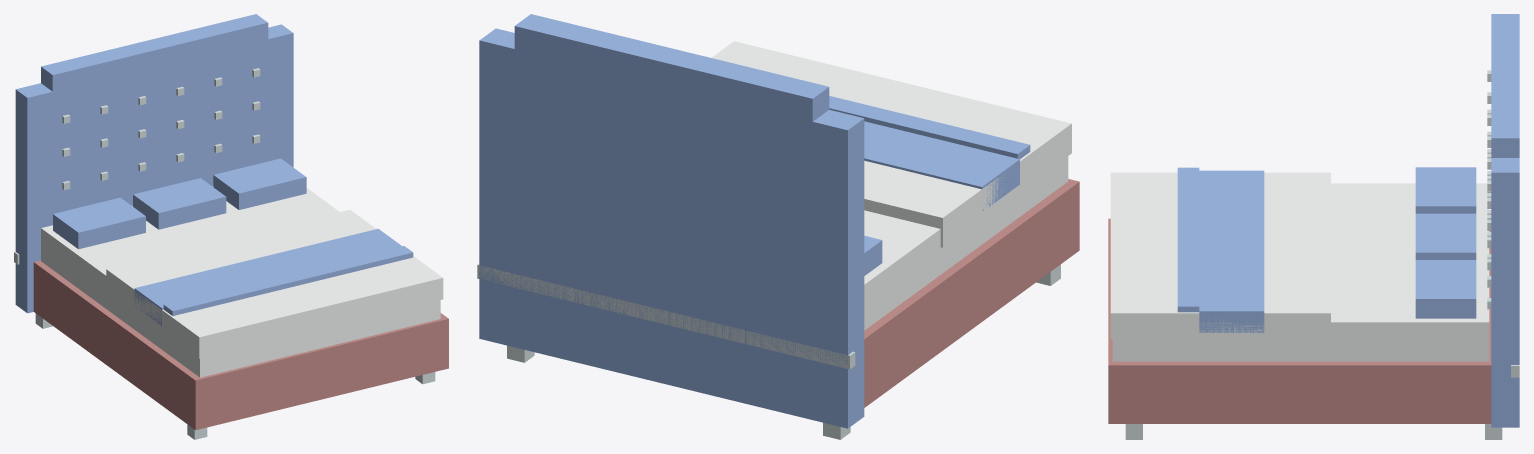
File: bedQueenLuxury.glb
The picture shows the model from 3 angles, left to right: view 1: azimuth 30°, elevation 25°; view 2: azimuth 150°, elevation 25°; view 3: azimuth 270°, elevation 25°; orthographic projection. The views are drawn at different scales.
Parts seen in each view (by area): view 1: bedQueenLuxury; view 2: bedQueenLuxury; view 3: bedQueenLuxury.
Part boxes in pixels (box(x1,y1,x2,y2)): bedQueenLuxury: box(14, 14, 448, 439); bedQueenLuxury: box(477, 14, 1079, 439); bedQueenLuxury: box(1108, 14, 1519, 439).
Bounding box in the file's own units: 0.85 × 0.75 × 0.95.
